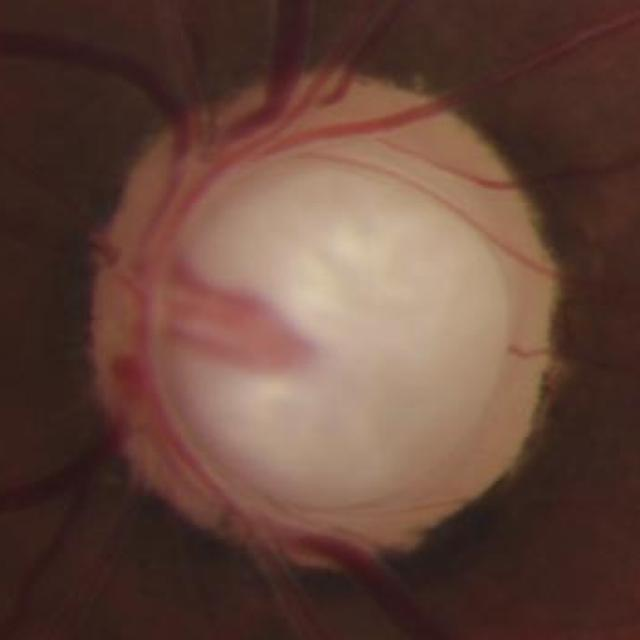OC: (155, 143, 513, 509)
OD: (86, 69, 556, 549)
